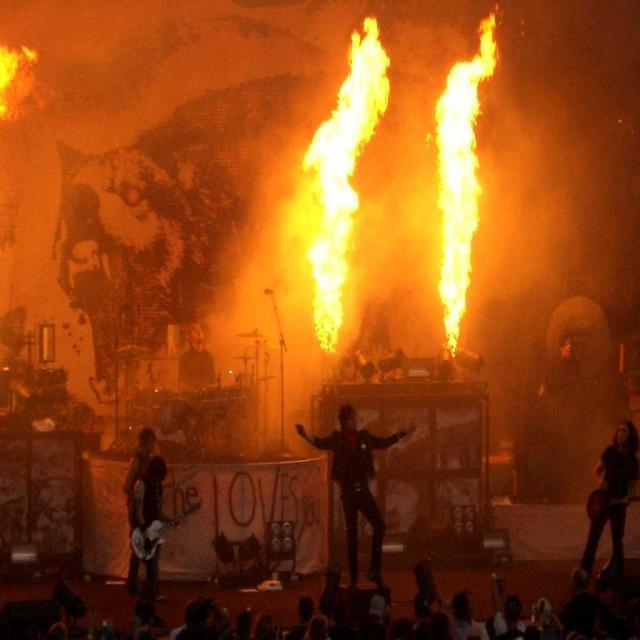Fire: (313, 144, 347, 320), (442, 104, 468, 290), (342, 85, 379, 136)
